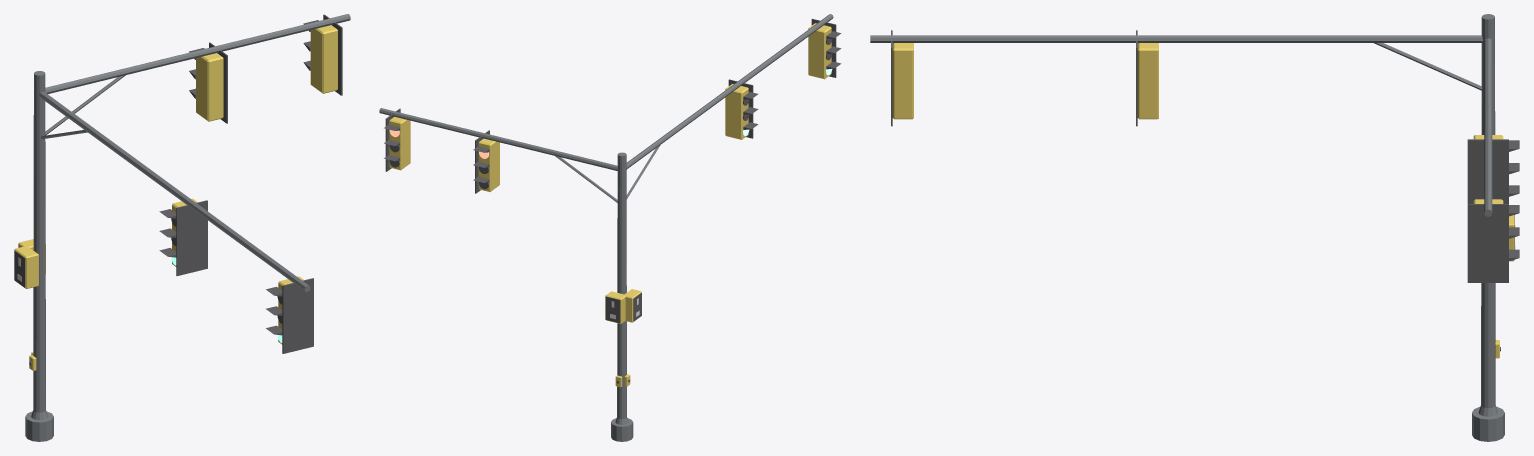
Rendered from traffic_signal.glb.
3 views of the same model, side by side, from view 1: azimuth 30°, elevation 25°; view 2: azimuth 150°, elevation 25°; view 3: azimuth 270°, elevation 25° (orthographic). The views are drawn at different scales.
Parts seen in each view (by area): view 1: traffic_signal_steel_d, traffic_signal_dark, traffic_signal_signal; view 2: traffic_signal_steel_d, traffic_signal_signal, traffic_signal_dark; view 3: traffic_signal_steel_d, traffic_signal_dark, traffic_signal_signal.
Boxes of the visible parts, x1,y1,x2,y2 form: traffic_signal_steel_d: (25, 14, 350, 441); traffic_signal_dark: (14, 14, 342, 365); traffic_signal_signal: (14, 25, 337, 370); traffic_signal_steel_d: (379, 14, 833, 441); traffic_signal_signal: (389, 23, 831, 387); traffic_signal_dark: (384, 18, 841, 383); traffic_signal_steel_d: (870, 14, 1504, 441); traffic_signal_dark: (891, 30, 1519, 351); traffic_signal_signal: (892, 43, 1514, 358).
Size of the model in its own units: 5.38 by 5.6 by 7.88.
